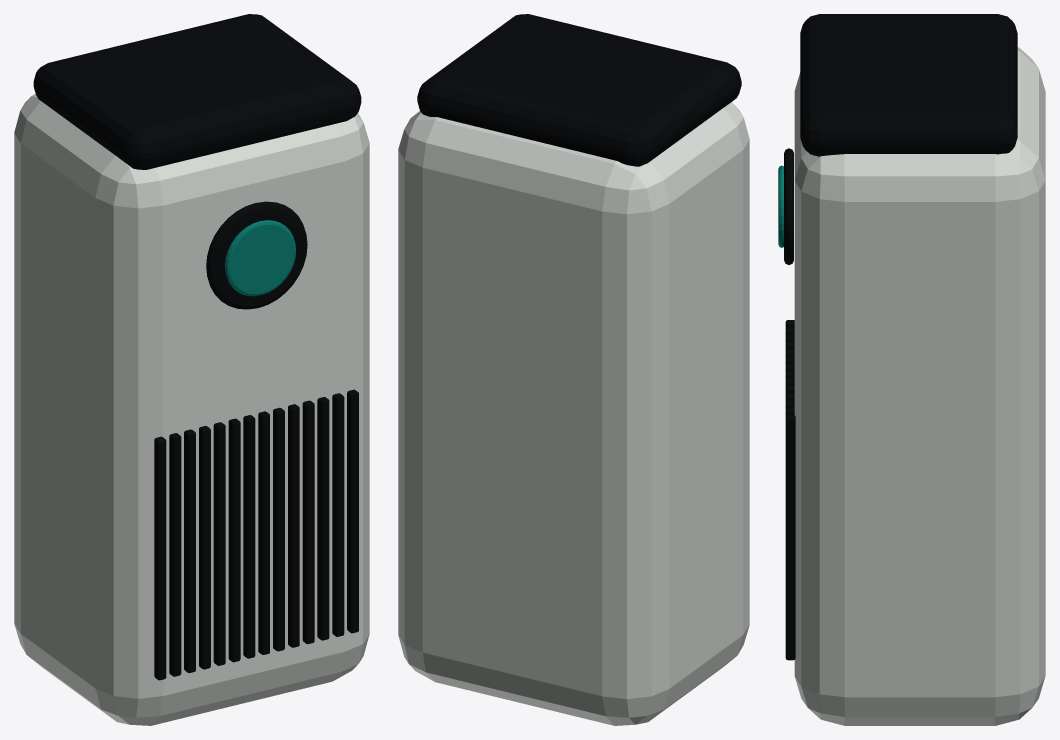
Rendered from SM_AirPurifier_Realistic.obj.
The picture shows the model from 3 angles, left to right: view 1: azimuth 30°, elevation 25°; view 2: azimuth 150°, elevation 25°; view 3: azimuth 270°, elevation 25°; orthographic projection. The views are drawn at different scales.
Parts seen in each view (by area): view 1: Body, Top, Display, Indicator, Vent0, Vent5, Vent10, Vent6, Vent11, Vent12, Vent1, Vent4 (+6 smaller); view 2: Body, Top; view 3: Body, Top, Vent13, Display, Indicator.
Part boxes in pixels (box(x1,y1,x2,y2)): Body: box(14, 94, 369, 725); Top: box(33, 14, 361, 169); Display: box(206, 201, 307, 309); Indicator: box(224, 220, 295, 296); Vent0: box(154, 436, 166, 680); Vent5: box(228, 418, 240, 662); Vent10: box(302, 400, 314, 644); Vent6: box(243, 415, 255, 658); Vent11: box(317, 397, 329, 640); Vent12: box(332, 393, 344, 636); Vent1: box(169, 433, 181, 676); Vent4: box(213, 422, 225, 665); Body: box(398, 102, 749, 725); Top: box(417, 14, 741, 166); Body: box(794, 47, 1045, 725); Top: box(800, 14, 1017, 156); Vent13: box(785, 415, 795, 660); Display: box(784, 148, 793, 264); Indicator: box(778, 165, 783, 247).
Size of the model in its own units: 0.56 by 1.21 by 0.479.
